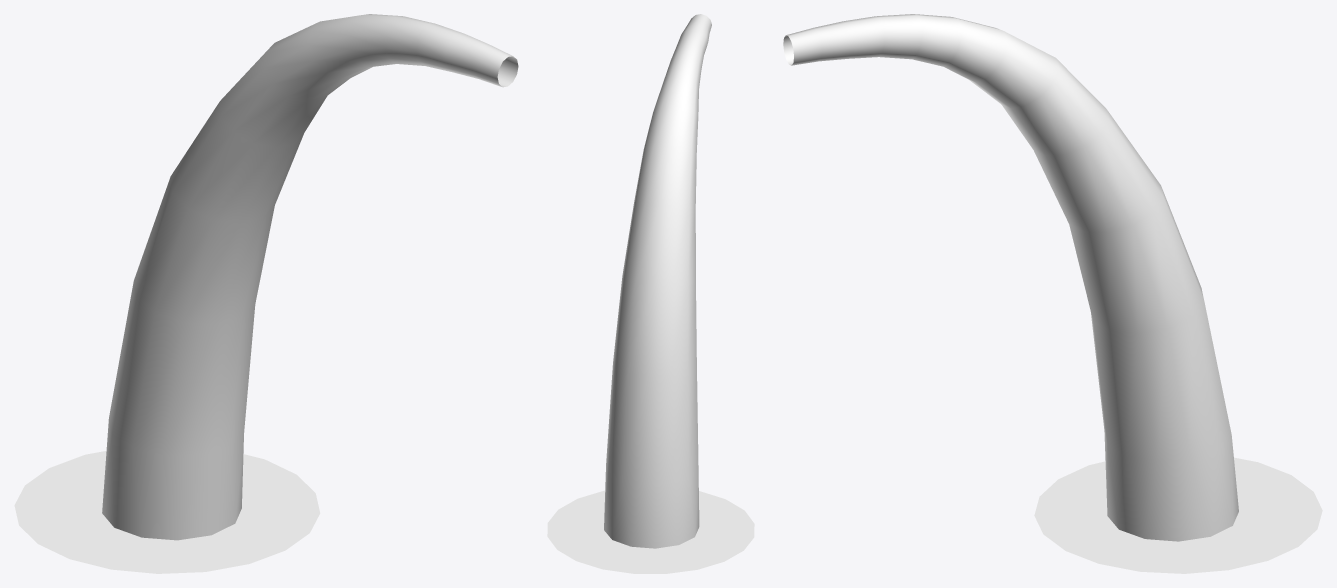
The model's file is Waterfall.obj.
3 views of the same model, side by side, from view 1: azimuth 30°, elevation 25°; view 2: azimuth 150°, elevation 25°; view 3: azimuth 270°, elevation 25° (orthographic). The views are drawn at different scales.
Size of the model in its own units: 320 by 631 by 568.
Materials: 2 (2 with a texture image).
